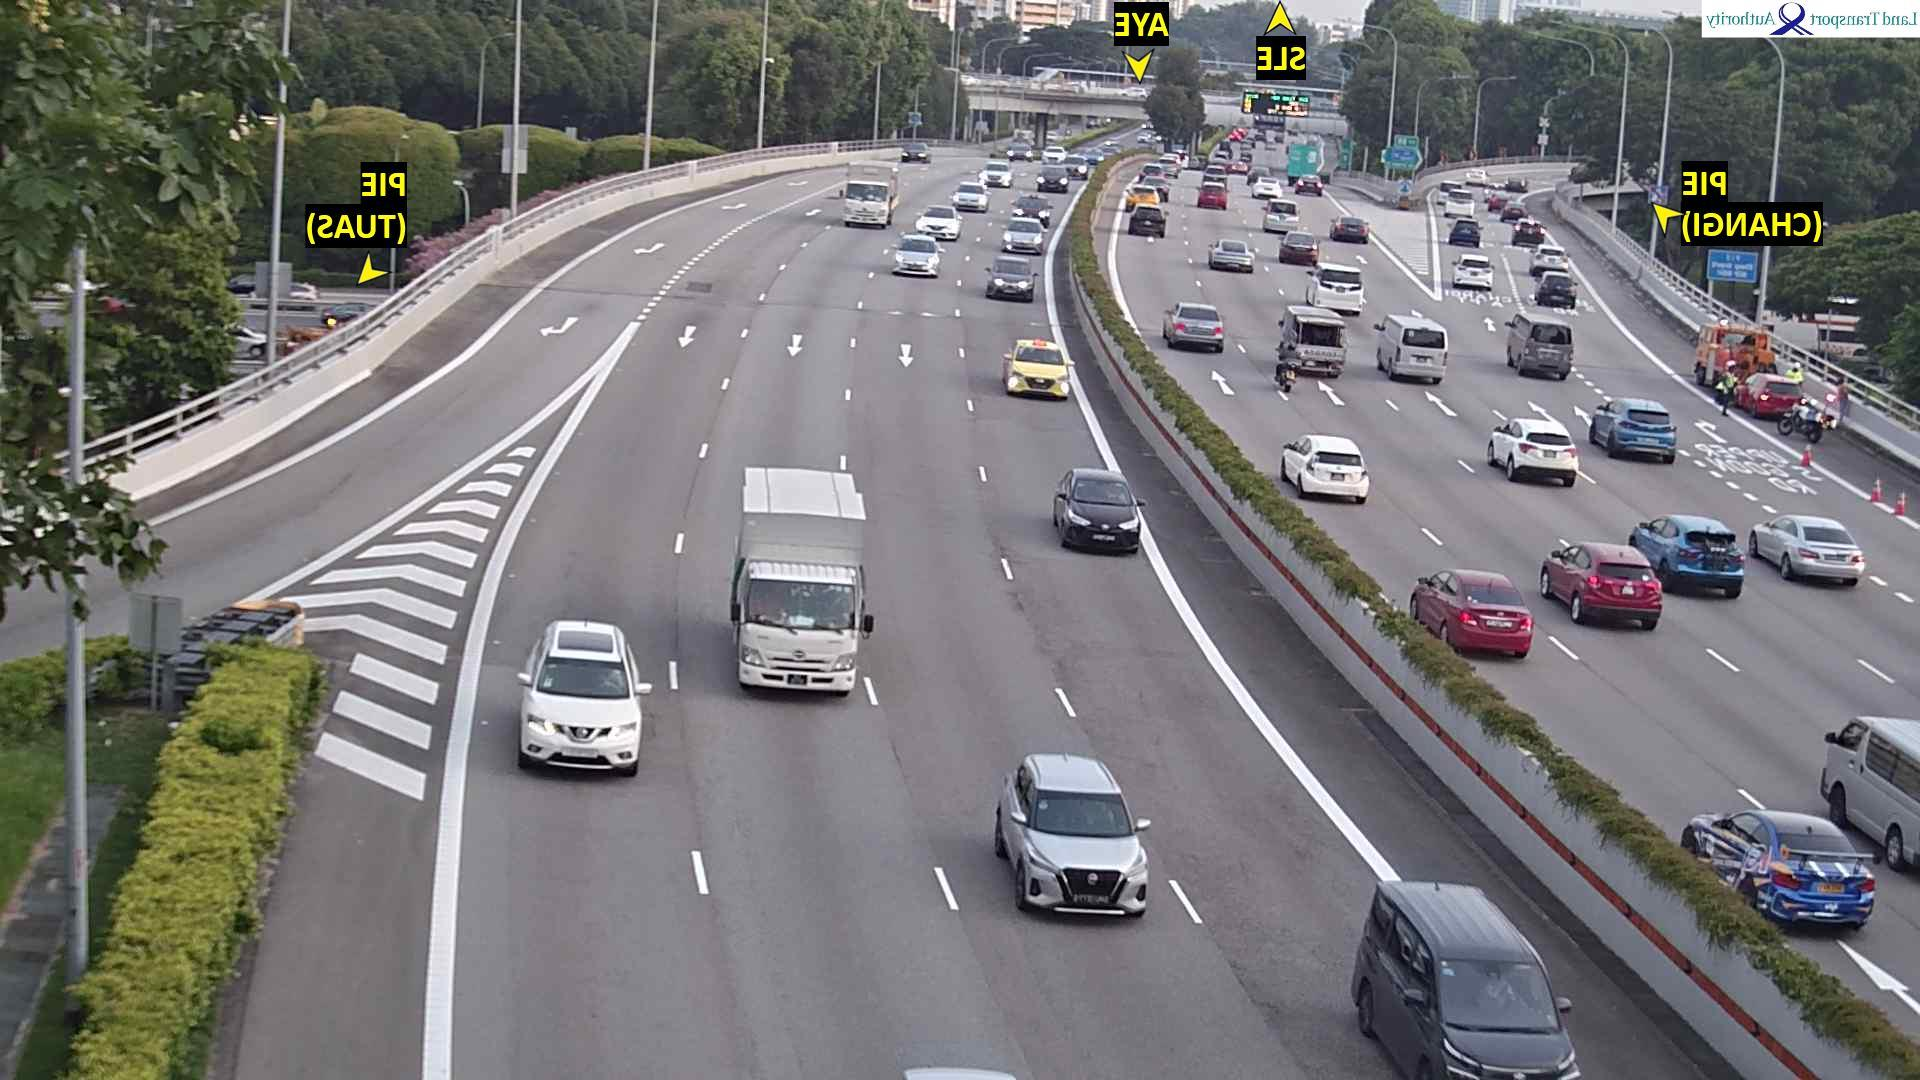incoming: (1393, 949, 1585, 1080), (723, 563, 880, 704), (1006, 781, 1156, 926), (508, 651, 655, 786), (1054, 476, 1146, 556), (1002, 344, 1075, 402), (837, 179, 895, 229), (982, 257, 1038, 305), (887, 236, 947, 280), (998, 219, 1050, 257), (915, 206, 963, 241), (1009, 195, 1054, 227), (952, 183, 993, 214), (1035, 166, 1072, 193), (977, 162, 1013, 189), (1062, 154, 1089, 182), (901, 142, 932, 164), (1006, 141, 1033, 164), (1040, 145, 1068, 165), (1081, 146, 1105, 165)
